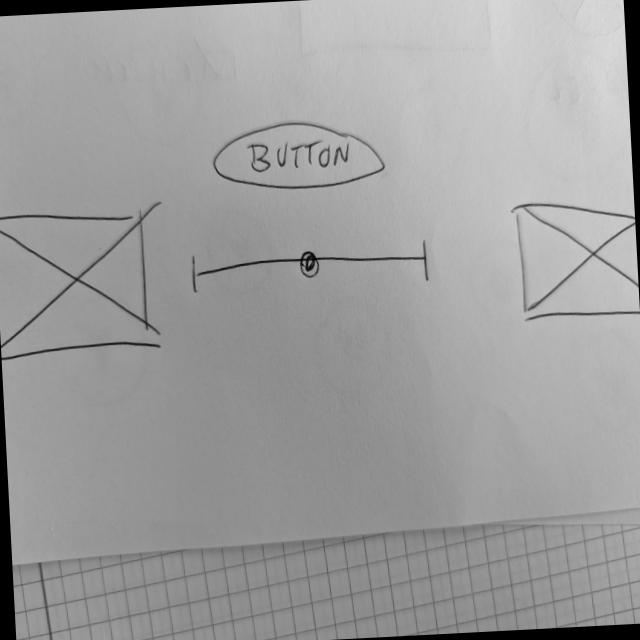button: (210, 114, 390, 200)
image: (0, 205, 155, 362), (508, 191, 640, 329)
slider: (187, 236, 434, 297)
